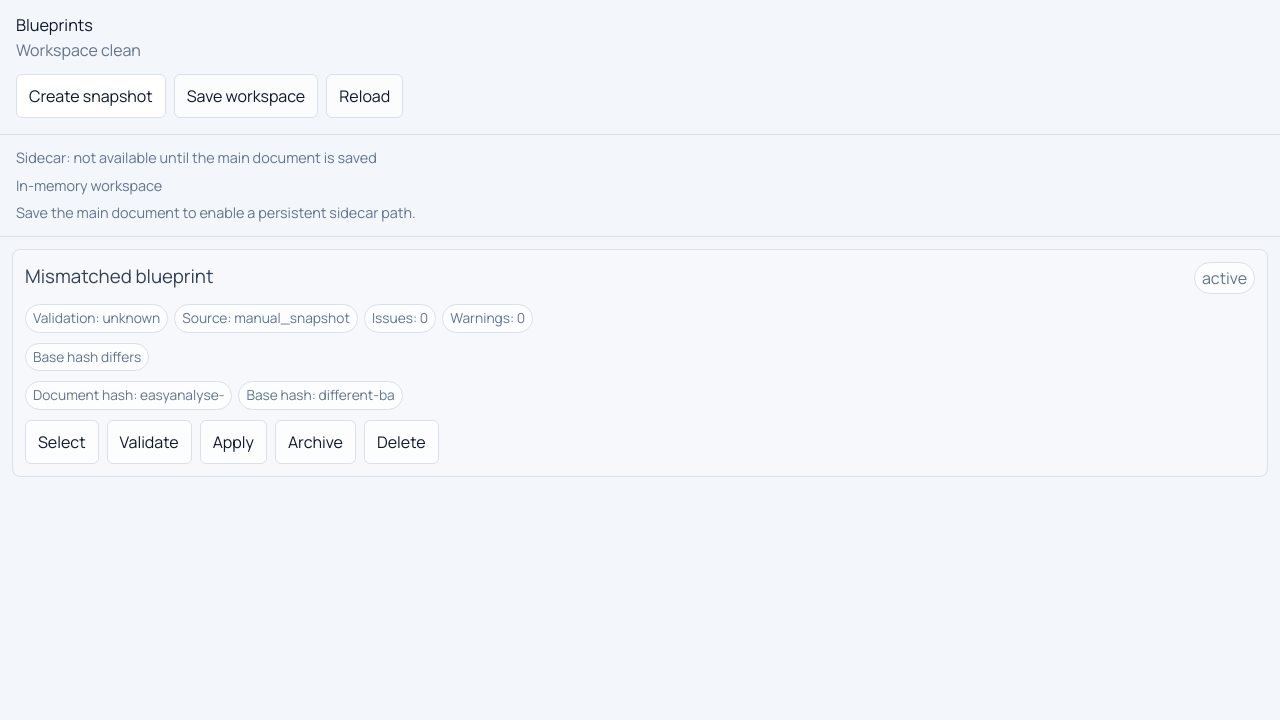
Test: BlueprintsPanel › warns about whole-document replacement when the base main document hash mismatches
Click the button "Apply": {"x": 233, "y": 442} top-left (200, 420), bottom-right (267, 464)
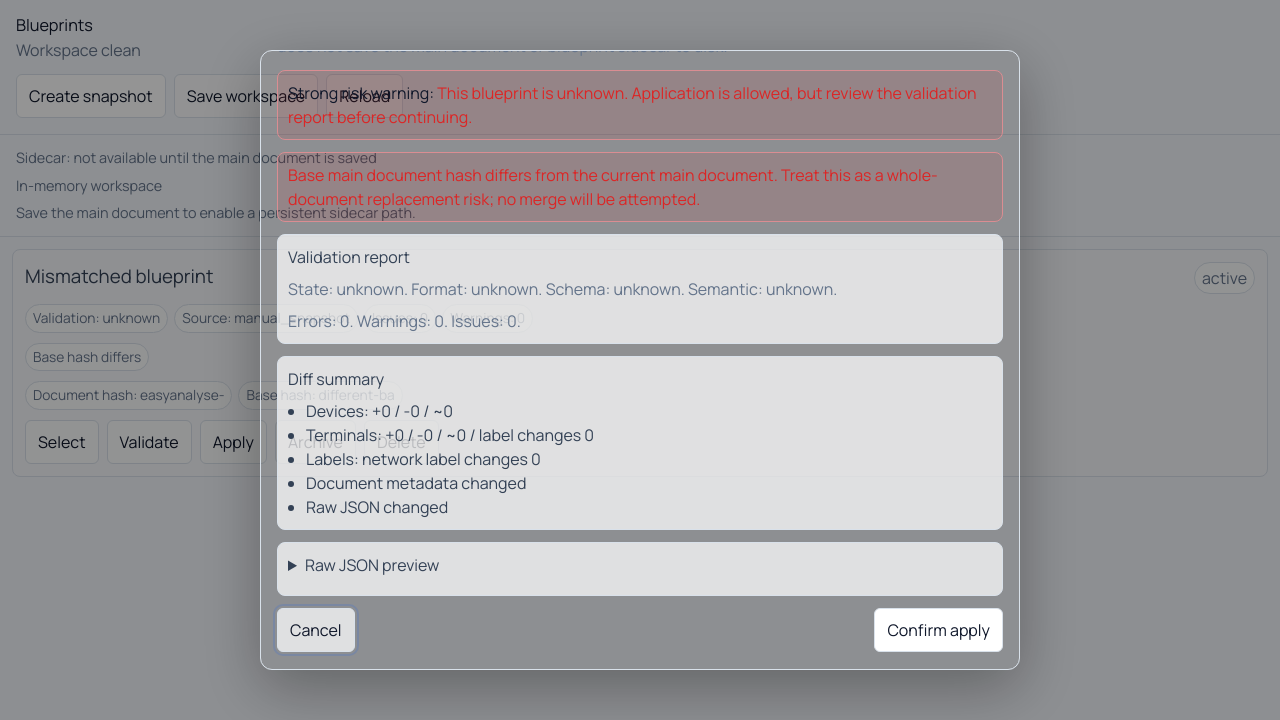
Expected: the dialog shows "whole-document replacement", top-left (288, 164), bottom-right (938, 210)
Expected: the dialog shows "no merge will be attempted", top-left (288, 164), bottom-right (938, 210)
